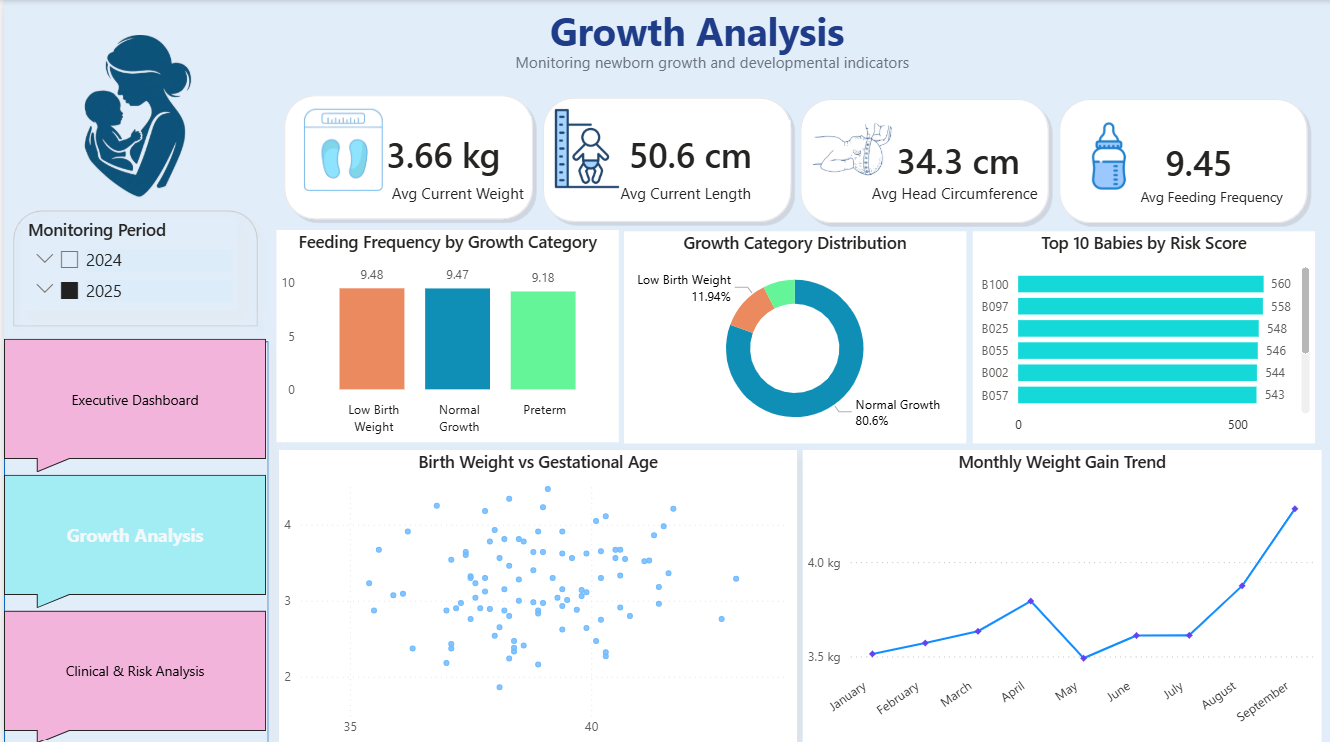

Layout of this report page (visuals, bound fields, positions):
{"tool":"powerbi","page":{"name":"Growth Analysis","canvas":[1280,720],"ordinal":1},"visuals":[{"type":"shape","box":[265.5,86.6,250,129.8],"z":0},{"type":"cardVisual","fields":{"Data":["Calculate_table.Test Avg Weight"]},"box":[340.2,107.4,174.9,80.8],"z":1000},{"type":"textbox","box":[369.2,171.3,146,30.2],"z":2000},{"type":"image","box":[279.9,105.3,95.2,79.4],"z":3000},{"type":"shape","box":[0,328.9,255.4,391],"z":4000},{"type":"pageNavigator","box":[0,327.5,253.9,392.4],"z":5000},{"type":"textbox","box":[500.7,0,336.6,60.3],"z":6000},{"type":"textbox","box":[488.6,44.6,399.3,32.6],"z":7000},{"type":"shape","box":[515.1,89.5,249.6,129.8],"z":8000},{"type":"cardVisual","fields":{"Data":["Calculate_table.Avg Current Length"]},"box":[574.2,111.1,190.4,72.1],"z":9000},{"type":"textbox","box":[590.1,171.7,145.7,37.5],"z":10000},{"type":"image","box":[515.1,103.9,95.2,79.4],"z":11000},{"type":"shape","box":[763.2,90.9,249.6,129.8],"z":12000},{"type":"cardVisual","fields":{"Data":["Calculate_table.Avg Head Circumference"]},"box":[832.5,118.3,178.9,69.3],"z":13000},{"type":"textbox","box":[832.5,171.7,180.3,40.4],"z":14000},{"type":"image","box":[779.1,102.4,82.2,85.1],"z":15000},{"type":"shape","box":[1012.8,90.9,249.6,129.8],"z":16000},{"type":"cardVisual","fields":{"Data":["Calculate_table.Average Feeding Frequency"]},"box":[1092.2,109.6,152.9,90.9],"z":17000},{"type":"textbox","box":[1092.2,176,167.4,31.7],"z":18000},{"type":"image","box":[1034.5,111.1,64.9,79.4],"z":19000},{"type":"donutChart","title":"Growth Category Distribution","fields":{"Category":["Dim_Baby_Profile_tbl.Growth_Category"],"Y":["Calculate_table.Total Babies"]},"box":[598.7,223.6,330,205],"z":20000},{"type":"scatterChart","title":"Birth Weight vs Gestational Age","fields":{"X":["Dim_Baby_Profile_tbl.gestational_age_weeks"],"Y":["Dim_Baby_Profile_tbl.birth_weight_kg"]},"box":[265.5,434.3,500,285.7],"z":21000},{"type":"clusteredColumnChart","title":"Feeding Frequency by Growth Category","fields":{"Category":["Dim_Baby_Profile_tbl.Growth_Category"],"Y":["Calculate_table.Average Feeding Frequency"]},"box":[262.6,222.2,330.4,205],"z":22000},{"type":"lineChart","title":"Monthly Weight Gain Trend","fields":{"Y":["Calculate_table.Avg Current Weight"],"Category":["Dim_Calender_tbl.date.Variation.Date Hierarchy.Month"]},"box":[770.4,434.3,500.6,285.7],"z":23000},{"type":"clusteredBarChart","title":"Top 10 Babies by Risk Score","fields":{"Category":["Dim_Baby_Profile_tbl.baby_id"],"Y":["Calculate_table.Total_Cumulative_Risk_Score"]},"box":[934.9,223.6,330.4,204.9],"z":24000},{"type":"image","box":[4.8,33.8,243.7,159.3],"z":25000},{"type":"shape","box":[0,194.8,253.9,129.8],"z":26000},{"type":"slicer","title":"Monitoring Period","fields":{"Values":["Dim_Calender_tbl.date.Variation.Date Hierarchy.Year","Dim_Calender_tbl.date.Variation.Date Hierarchy.Month"]},"box":[18.1,210.2,206.6,90.6],"z":27000}]}

Visuals, with their boxes in screenshot pixels (x1, y1, x2, y2), scaled from the page's 1280x720 canvas onto the 1330x742 screenshot:
shape: <box>276,89,536,223</box>
cardVisual - Calculate_table.Test Avg Weight: <box>353,111,535,194</box>
textbox: <box>384,177,535,208</box>
image: <box>291,109,390,190</box>
shape: <box>0,339,265,741</box>
pageNavigator: <box>0,338,264,741</box>
textbox: <box>520,0,870,62</box>
textbox: <box>508,46,923,80</box>
shape: <box>535,92,795,226</box>
cardVisual - Calculate_table.Avg Current Length: <box>597,114,794,189</box>
textbox: <box>613,177,765,216</box>
image: <box>535,107,634,189</box>
shape: <box>793,94,1052,227</box>
cardVisual - Calculate_table.Avg Head Circumference: <box>865,122,1051,193</box>
textbox: <box>865,177,1052,219</box>
image: <box>810,106,895,193</box>
shape: <box>1052,94,1312,227</box>
cardVisual - Calculate_table.Average Feeding Frequency: <box>1135,113,1294,207</box>
textbox: <box>1135,181,1309,214</box>
image: <box>1075,114,1142,196</box>
"Growth Category Distribution" donutChart: <box>622,230,965,442</box>
"Birth Weight vs Gestational Age" scatterChart: <box>276,448,795,741</box>
"Feeding Frequency by Growth Category" clusteredColumnChart: <box>273,229,616,440</box>
"Monthly Weight Gain Trend" lineChart: <box>800,448,1321,741</box>
"Top 10 Babies by Risk Score" clusteredBarChart: <box>971,230,1315,442</box>
image: <box>5,35,258,199</box>
shape: <box>0,201,264,335</box>
"Monitoring Period" slicer: <box>19,217,233,310</box>
